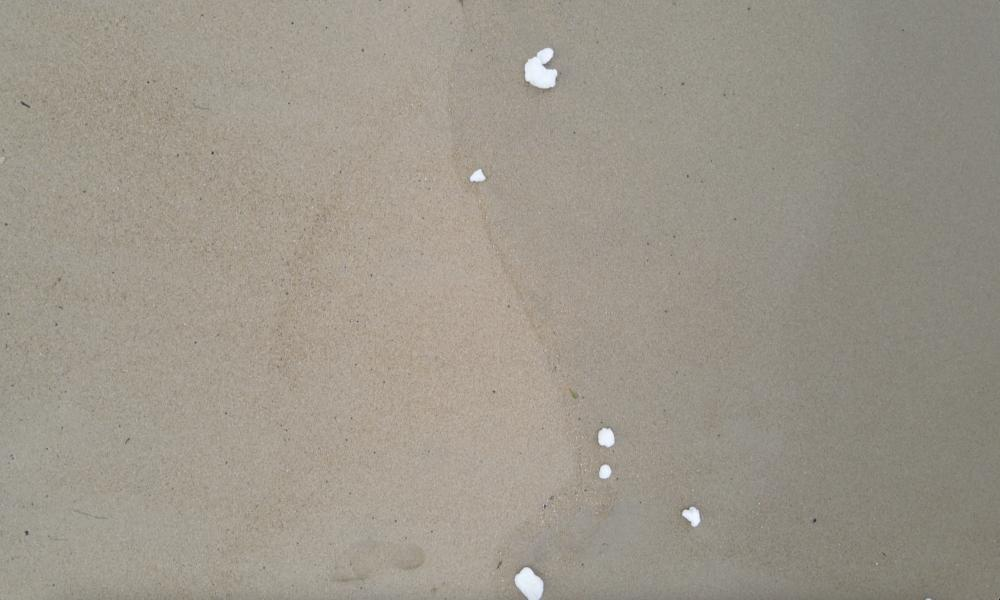styrofoam: (524, 46, 556, 89), (515, 567, 545, 600), (599, 425, 616, 450), (684, 506, 699, 526), (472, 168, 486, 182), (598, 464, 610, 476)
